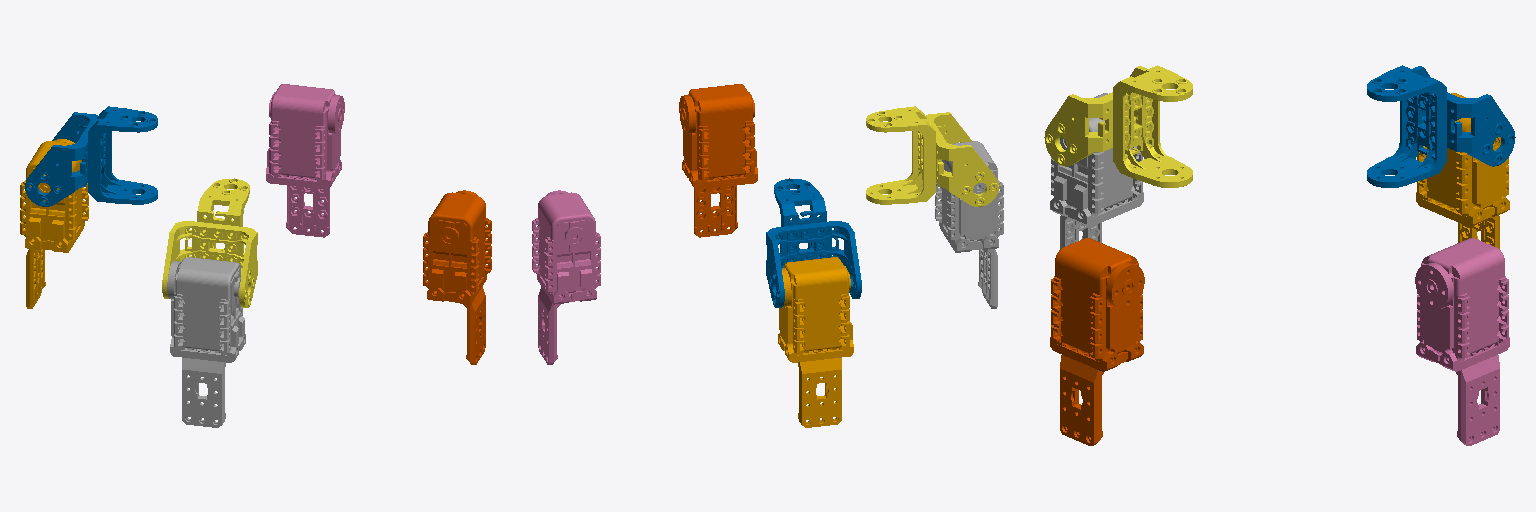
URDF robot description (Bioloid_Quadruped_Model):
<?xml version='1.0' encoding='utf-8'?>
<robot name="Bioloid_Quadruped_Model">
    <link name="base_link">
        <inertial>
            <origin xyz="3.217737512478091e-07 -0.0006208967582803453 -0.02167933173791836" rpy="0.0 0.0 0.0" />
            <mass value="0.3945572703862656" />
            <inertia ixx="0.0008062948648380765" iyy="0.0004776395944418309" izz="0.00114506488469596" ixy="-2.7497490553469346e-08" iyz="-3.2439569827517864e-07" ixz="-3.097941264168277e-10" />
        </inertial>
        <visual name="base_link_visual">
            <origin xyz="0.0 0.0 0.0" rpy="0.0 0.0 0.0" />
            <geometry>
                <mesh filename="meshes/base_link.stl" scale="0.001 0.001 0.001" />
            </geometry>
        </visual>
        <collision name="base_link_collision">
            <origin xyz="0.0 0.0 0.0" rpy="0.0 0.0 0.0" />
            <geometry>
                <mesh filename="meshes/base_link.stl" scale="0.001 0.001 0.001" />
            </geometry>
        </collision>
    </link>
    <link name="FR_Hip">
        <inertial>
            <origin xyz="-0.018668157324061036 0.022973185419977744 0.018666612511943532" rpy="0.0 -0.0 0.0" />
            <mass value="0.04253689044965901" />
            <inertia ixx="1.8169615618694648e-05" iyy="1.8136930768790157e-05" izz="1.816943908045572e-05" ixy="1.220731168130027e-06" iyz="-1.2208608291347044e-06" ixz="9.283634929247045e-08" />
        </inertial>
        <visual name="FR_Hip_visual">
            <origin xyz="4.4444448121794266e-14 -3.9968028886505636e-16 3.219646771412954e-14" rpy="1.5707963267949003 -4.6115879164695115e-29 8.6926450496864e-15" />
            <geometry>
                <mesh filename="meshes/FR_Hip.stl" scale="0.001 0.001 0.001" />
            </geometry>
        </visual>
        <collision name="FR_Hip_collision">
            <origin xyz="4.4444448121794266e-14 -3.9968028886505636e-16 3.219646771412954e-14" rpy="1.5707963267949003 -4.6115879164695115e-29 8.6926450496864e-15" />
            <geometry>
                <mesh filename="meshes/FR_Hip.stl" scale="0.001 0.001 0.001" />
            </geometry>
        </collision>
    </link>
    <link name="FL_Hip">
        <inertial>
            <origin xyz="-0.018666612512926336 0.02297318542160572 -0.018668157324469394" rpy="0.0 -0.0 0.0" />
            <mass value="0.042536890445288286" />
            <inertia ixx="1.8169439080177526e-05" iyy="1.8136930767766182e-05" izz="1.8169615615768562e-05" ixy="1.2208608287358468e-06" iyz="1.2207311675215232e-06" ixz="-9.283634903110881e-08" />
        </inertial>
        <visual name="FL_Hip_visual">
            <origin xyz="4.575007039875345e-14 -1.7763568394002505e-17 3.507416579395795e-14" rpy="1.5707963267948768 5.604829633550335e-31 9.447140176785709e-17" />
            <geometry>
                <mesh filename="meshes/FL_Hip.stl" scale="0.001 0.001 0.001" />
            </geometry>
        </visual>
        <collision name="FL_Hip_collision">
            <origin xyz="4.575007039875345e-14 -1.7763568394002505e-17 3.507416579395795e-14" rpy="1.5707963267948768 5.604829633550335e-31 9.447140176785709e-17" />
            <geometry>
                <mesh filename="meshes/FL_Hip.stl" scale="0.001 0.001 0.001" />
            </geometry>
        </collision>
    </link>
    <link name="BR_Hip">
        <inertial>
            <origin xyz="0.01866661251301758 0.02297318542160571 0.018668157324536024" rpy="0.0 -0.0 0.0" />
            <mass value="0.04253689044528844" />
            <inertia ixx="1.8169439080177173e-05" iyy="1.8136930767766108e-05" izz="1.8169615615768555e-05" ixy="-1.220860828735712e-06" iyz="-1.2207311675213527e-06" ixz="-9.283634903084627e-08" />
        </inertial>
        <visual name="BR_Hip_visual">
            <origin xyz="4.311218049224408e-14 1.865174681370263e-16 3.595346242946107e-14" rpy="-1.5707963267948934 1.1774227769444482e-60 -3.141592653589793" />
            <geometry>
                <mesh filename="meshes/BR_Hip.stl" scale="0.001 0.001 0.001" />
            </geometry>
        </visual>
        <collision name="BR_Hip_collision">
            <origin xyz="4.311218049224408e-14 1.865174681370263e-16 3.595346242946107e-14" rpy="-1.5707963267948934 1.1774227769444482e-60 -3.141592653589793" />
            <geometry>
                <mesh filename="meshes/BR_Hip.stl" scale="0.001 0.001 0.001" />
            </geometry>
        </collision>
    </link>
    <link name="BL_Hip">
        <inertial>
            <origin xyz="0.018668157324152192 0.022973185419977935 -0.0186666125118764" rpy="0.0 -0.0 0.0" />
            <mass value="0.042536890449659026" />
            <inertia ixx="1.8169615618694837e-05" iyy="1.8136930768790306e-05" izz="1.8169439080455915e-05" ixy="-1.220731168130068e-06" iyz="1.2208608291346652e-06" ixz="9.283634929218553e-08" />
        </inertial>
        <visual name="BL_Hip_visual">
            <origin xyz="4.68070027181966e-14 -4.174438572590589e-16 3.459454944731988e-14" rpy="-1.570796326794897 7.161843189399387e-30 3.1415926535897847" />
            <geometry>
                <mesh filename="meshes/BL_Hip.stl" scale="0.001 0.001 0.001" />
            </geometry>
        </visual>
        <collision name="BL_Hip_collision">
            <origin xyz="4.68070027181966e-14 -4.174438572590589e-16 3.459454944731988e-14" rpy="-1.570796326794897 7.161843189399387e-30 3.1415926535897847" />
            <geometry>
                <mesh filename="meshes/BL_Hip.stl" scale="0.001 0.001 0.001" />
            </geometry>
        </collision>
    </link>
    <link name="FR_Leg">
        <inertial>
            <origin xyz="-0.0247308162490421 -0.015277990613796923 -0.0057880069808526535" rpy="0.0 -1.6422226838308199e-28 1.5777218104420236e-30" />
            <mass value="0.07210855947361666" />
            <inertia ixx="2.7116764834131184e-05" iyy="3.7585354293326055e-05" izz="2.2755853150201203e-05" ixy="-3.355322684653534e-06" iyz="-1.1991990578717728e-06" ixz="-1.2788645590324733e-05" />
        </inertial>
        <visual name="FR_Leg_visual">
            <origin xyz="3.3113903530335163e-09 1.2674441940419e-10 -3.311390059934638e-09" rpy="2.3561944901923417 0.7853981633974431 3.1415926535897767" />
            <geometry>
                <mesh filename="meshes/FR_Leg.stl" scale="0.001 0.001 0.001" />
            </geometry>
        </visual>
        <collision name="FR_Leg_collision">
            <origin xyz="3.3113903530335163e-09 1.2674441940419e-10 -3.311390059934638e-09" rpy="2.3561944901923417 0.7853981633974431 3.1415926535897767" />
            <geometry>
                <mesh filename="meshes/FR_Leg.stl" scale="0.001 0.001 0.001" />
            </geometry>
        </collision>
    </link>
    <link name="FL_Leg">
        <inertial>
            <origin xyz="0.0057859373906217915 -0.015275063771119335 0.024732885839324148" rpy="0.0 -5.595214155379179e-29 0.0" />
            <mass value="0.07210855947369664" />
            <inertia ixx="2.2759486563865445e-05" iyy="3.758624139430155e-05" izz="2.7113831815778427e-05" ixy="1.1971581058590036e-06" iyz="3.3527204680457515e-06" ixz="-1.2788202039874856e-05" />
        </inertial>
        <visual name="FL_Leg_visual">
            <origin xyz="3.311389562554723e-09 1.2681151240201417e-10 -3.3113893049829814e-09" rpy="-2.3561944901923213 -0.7853981633974557 -2.1005088792167953e-14" />
            <geometry>
                <mesh filename="meshes/FL_Leg.stl" scale="0.001 0.001 0.001" />
            </geometry>
        </visual>
        <collision name="FL_Leg_collision">
            <origin xyz="3.311389562554723e-09 1.2681151240201417e-10 -3.3113893049829814e-09" rpy="-2.3561944901923213 -0.7853981633974557 -2.1005088792167953e-14" />
            <geometry>
                <mesh filename="meshes/FL_Leg.stl" scale="0.001 0.001 0.001" />
            </geometry>
        </collision>
    </link>
    <link name="BR_Leg">
        <inertial>
            <origin xyz="0.02473288583925933 0.01527506377118618 0.00578593739068638" rpy="0.0 -3.7795432499907104e-29 0.0" />
            <mass value="0.07210855947369653" />
            <inertia ixx="2.7113831815778058e-05" iyy="3.758624139430048e-05" izz="2.2759486563864066e-05" ixy="-3.3527204680459463e-06" iyz="-1.1971581058589392e-06" ixz="-1.2788202039874592e-05" />
        </inertial>
        <visual name="BR_Leg_visual">
            <origin xyz="-3.311453751209115e-09 -1.2674482796626307e-10 3.3114538933176617e-09" rpy="0.7853981633974368 -0.7853981633974538 2.4463814547562022e-14" />
            <geometry>
                <mesh filename="meshes/BR_Leg.stl" scale="0.001 0.001 0.001" />
            </geometry>
        </visual>
        <collision name="BR_Leg_collision">
            <origin xyz="-3.311453751209115e-09 -1.2674482796626307e-10 3.3114538933176617e-09" rpy="0.7853981633974368 -0.7853981633974538 2.4463814547562022e-14" />
            <geometry>
                <mesh filename="meshes/BR_Leg.stl" scale="0.001 0.001 0.001" />
            </geometry>
        </collision>
    </link>
    <link name="BL_Leg">
        <inertial>
            <origin xyz="-0.026060512790645165 0.013397515730857243 0.00445831043930073" rpy="0.0 1.124620163179249e-28 0.0" />
            <mass value="0.0721085594736969" />
            <inertia ixx="2.1650099278941074e-05" iyy="3.7724861229696696e-05" izz="2.8084599265307002e-05" ixy="-4.6171234653434635e-07" iyz="2.6172747087214727e-06" ixz="1.2718892122177328e-05" />
        </inertial>
        <visual name="BL_Leg_visual">
            <origin xyz="8.961250408390243e-11 -4.683023426821364e-09 8.961213104896616e-11" rpy="-0.7853981633974587 -0.7853981633974421 -3.141592653589766" />
            <geometry>
                <mesh filename="meshes/BL_Leg.stl" scale="0.001 0.001 0.001" />
            </geometry>
        </visual>
        <collision name="BL_Leg_collision">
            <origin xyz="8.961250408390243e-11 -4.683023426821364e-09 8.961213104896616e-11" rpy="-0.7853981633974587 -0.7853981633974421 -3.141592653589766" />
            <geometry>
                <mesh filename="meshes/BL_Leg.stl" scale="0.001 0.001 0.001" />
            </geometry>
        </collision>
    </link>
    <joint name="base_link_FR_Hip_Joint" type="revolute">
        <origin xyz="0.04650000000004563 -0.05199999999996651 -0.000999999999999952" rpy="-1.5707963267949003 -2.472056497036426e-31 3.141592653589793" />
        <parent link="base_link" />
        <child link="FR_Hip" />
        <axis xyz="-0.0 1.0 5.849663054843777e-15" />
        <limit lower="-1.570796" upper="0.872665" effort="1000000" velocity="1000000" />
    </joint>
    <joint name="base_link_FL_Hip_Joint" type="revolute">
        <origin xyz="0.04650000000004563 0.0520000000000335 -0.001000000000000183" rpy="-1.5707963267948883 -2.472056497036426e-31 3.141592653589793" />
        <parent link="base_link" />
        <child link="FL_Hip" />
        <axis xyz="0.0 1.0 -5.932832083219199e-15" />
        <limit lower="-0.872665" upper="1.570796" effort="1000000" velocity="1000000" />
    </joint>
    <joint name="base_link_BR_Hip_Joint" type="revolute">
        <origin xyz="-0.046499999999954376 -0.05199999999996651 -0.000999999999999952" rpy="-1.5707963267948912 -2.472056497036426e-31 3.141592653589793" />
        <parent link="base_link" />
        <child link="BR_Hip" />
        <axis xyz="0.0 1.0 -3.0632783374918904e-15" />
        <limit lower="-0.872665" upper="1.570796" effort="1000000" velocity="1000000" />
    </joint>
    <joint name="base_link_BL_Hip_Joint" type="revolute">
        <origin xyz="-0.046499999999954376 0.0520000000000335 -0.001000000000000183" rpy="-1.570796326794893 -2.472056497036426e-31 3.141592653589793" />
        <parent link="base_link" />
        <child link="BL_Hip" />
        <axis xyz="0.0 1.0 -1.3683992102213572e-15" />
        <limit lower="-1.570796" upper="0.872665" effort="1000000" velocity="1000000" />
    </joint>
    <joint name="FR_Hip_FR_Leg_Joint" type="revolute">
        <origin xyz="-0.04949747000000013 0.035499999999999886 0.0197989900000002" rpy="-1.5707963267949137 1.6951260072622784e-14 -2.3561944901923386" />
        <parent link="FR_Hip" />
        <child link="FR_Leg" />
        <axis xyz="-0.5000001547244821 -0.707107 0.5000001547244701" />
        <limit lower="0.0" upper="1.570796" effort="1000000" velocity="1000000" />
    </joint>
    <joint name="FL_Hip_FL_Leg_Joint" type="revolute">
        <origin xyz="-0.04949747000000006 0.035499999999999886 -0.01979899000000021" rpy="1.5707963267948932 -3.284970615432205e-15 2.356194490192351" />
        <parent link="FL_Hip" />
        <child link="FL_Leg" />
        <axis xyz="-0.5000001547244846 -0.707107 0.5000001547244677" />
        <limit lower="-1.570796" upper="0.0" effort="1000000" velocity="1000000" />
    </joint>
    <joint name="BR_Hip_BR_Leg_Joint" type="revolute">
        <origin xyz="0.04949746999999996 0.03550000000000006 0.01979898999999989" rpy="1.570796326794905 8.313863881483637e-15 2.3561944901923506" />
        <parent link="BR_Hip" />
        <child link="BR_Leg" />
        <axis xyz="0.5000001547244746 0.707107 -0.5000001547244777" />
        <limit lower="-1.570796" upper="0.0" effort="1000000" velocity="1000000" />
    </joint>
    <joint name="BL_Hip_BL_Leg_Joint" type="revolute">
        <origin xyz="0.019798989999999687 0.035499999999999934 -0.04949747000000004" rpy="1.570796326794887 9.637206637771678e-15 -2.356194490192339" />
        <parent link="BL_Hip" />
        <child link="BL_Leg" />
        <axis xyz="-0.5000001547244807 0.707107 -0.5000001547244715" />
        <limit lower="-1.570796" upper="0.0" effort="1000000" velocity="1000000" />
    </joint>
</robot>

--- What the picture shows (computed from the rendered views, not written in the file) ---
The picture shows the robot from 3 angles, left to right: view 1: azimuth 30°, elevation 25°; view 2: azimuth 150°, elevation 25°; view 3: azimuth 270°, elevation 25°; orthographic projection.
Model Bioloid_Quadruped_Model with 9 links and 8 joints (8 revolute), rooted at base_link, posed every joint at zero.
Links seen in each view (by area): view 1: BR_Leg, FL_Leg, FR_Leg, BL_Hip, BR_Hip, BL_Leg; view 2: BL_Leg, FR_Leg, FL_Leg, BR_Hip, BL_Hip, BR_Leg; view 3: FR_Leg, FL_Leg, BR_Hip, BL_Hip, BL_Leg, BR_Leg.
Link boxes in pixels (left/top/right/bottom): BR_Leg: left=167, top=257, right=245, bottom=427; FL_Leg: left=266, top=84, right=344, bottom=237; FR_Leg: left=423, top=190, right=491, bottom=364; BL_Hip: left=25, top=106, right=157, bottom=206; BR_Hip: left=162, top=178, right=257, bottom=307; BL_Leg: left=20, top=139, right=88, bottom=308; BL_Leg: left=778, top=257, right=853, bottom=427; FR_Leg: left=679, top=84, right=757, bottom=237; FL_Leg: left=532, top=190, right=600, bottom=364; BR_Hip: left=866, top=106, right=998, bottom=206; BL_Hip: left=766, top=178, right=861, bottom=307; BR_Leg: left=935, top=141, right=1003, bottom=308; FR_Leg: left=1050, top=238, right=1144, bottom=445; FL_Leg: left=1415, top=238, right=1509, bottom=445; BR_Hip: left=1044, top=65, right=1192, bottom=187; BL_Hip: left=1367, top=65, right=1515, bottom=187; BL_Leg: left=1416, top=93, right=1509, bottom=248; BR_Leg: left=1050, top=93, right=1143, bottom=248.
Size in the robot's own frame: 0.2097 by 0.2229 by 0.1214 metres.
Meshes: 9 distinct files referenced, 6 mesh visuals loaded (6 binary STL); not drawn: 3 (reference not matched to a file when rendering).
